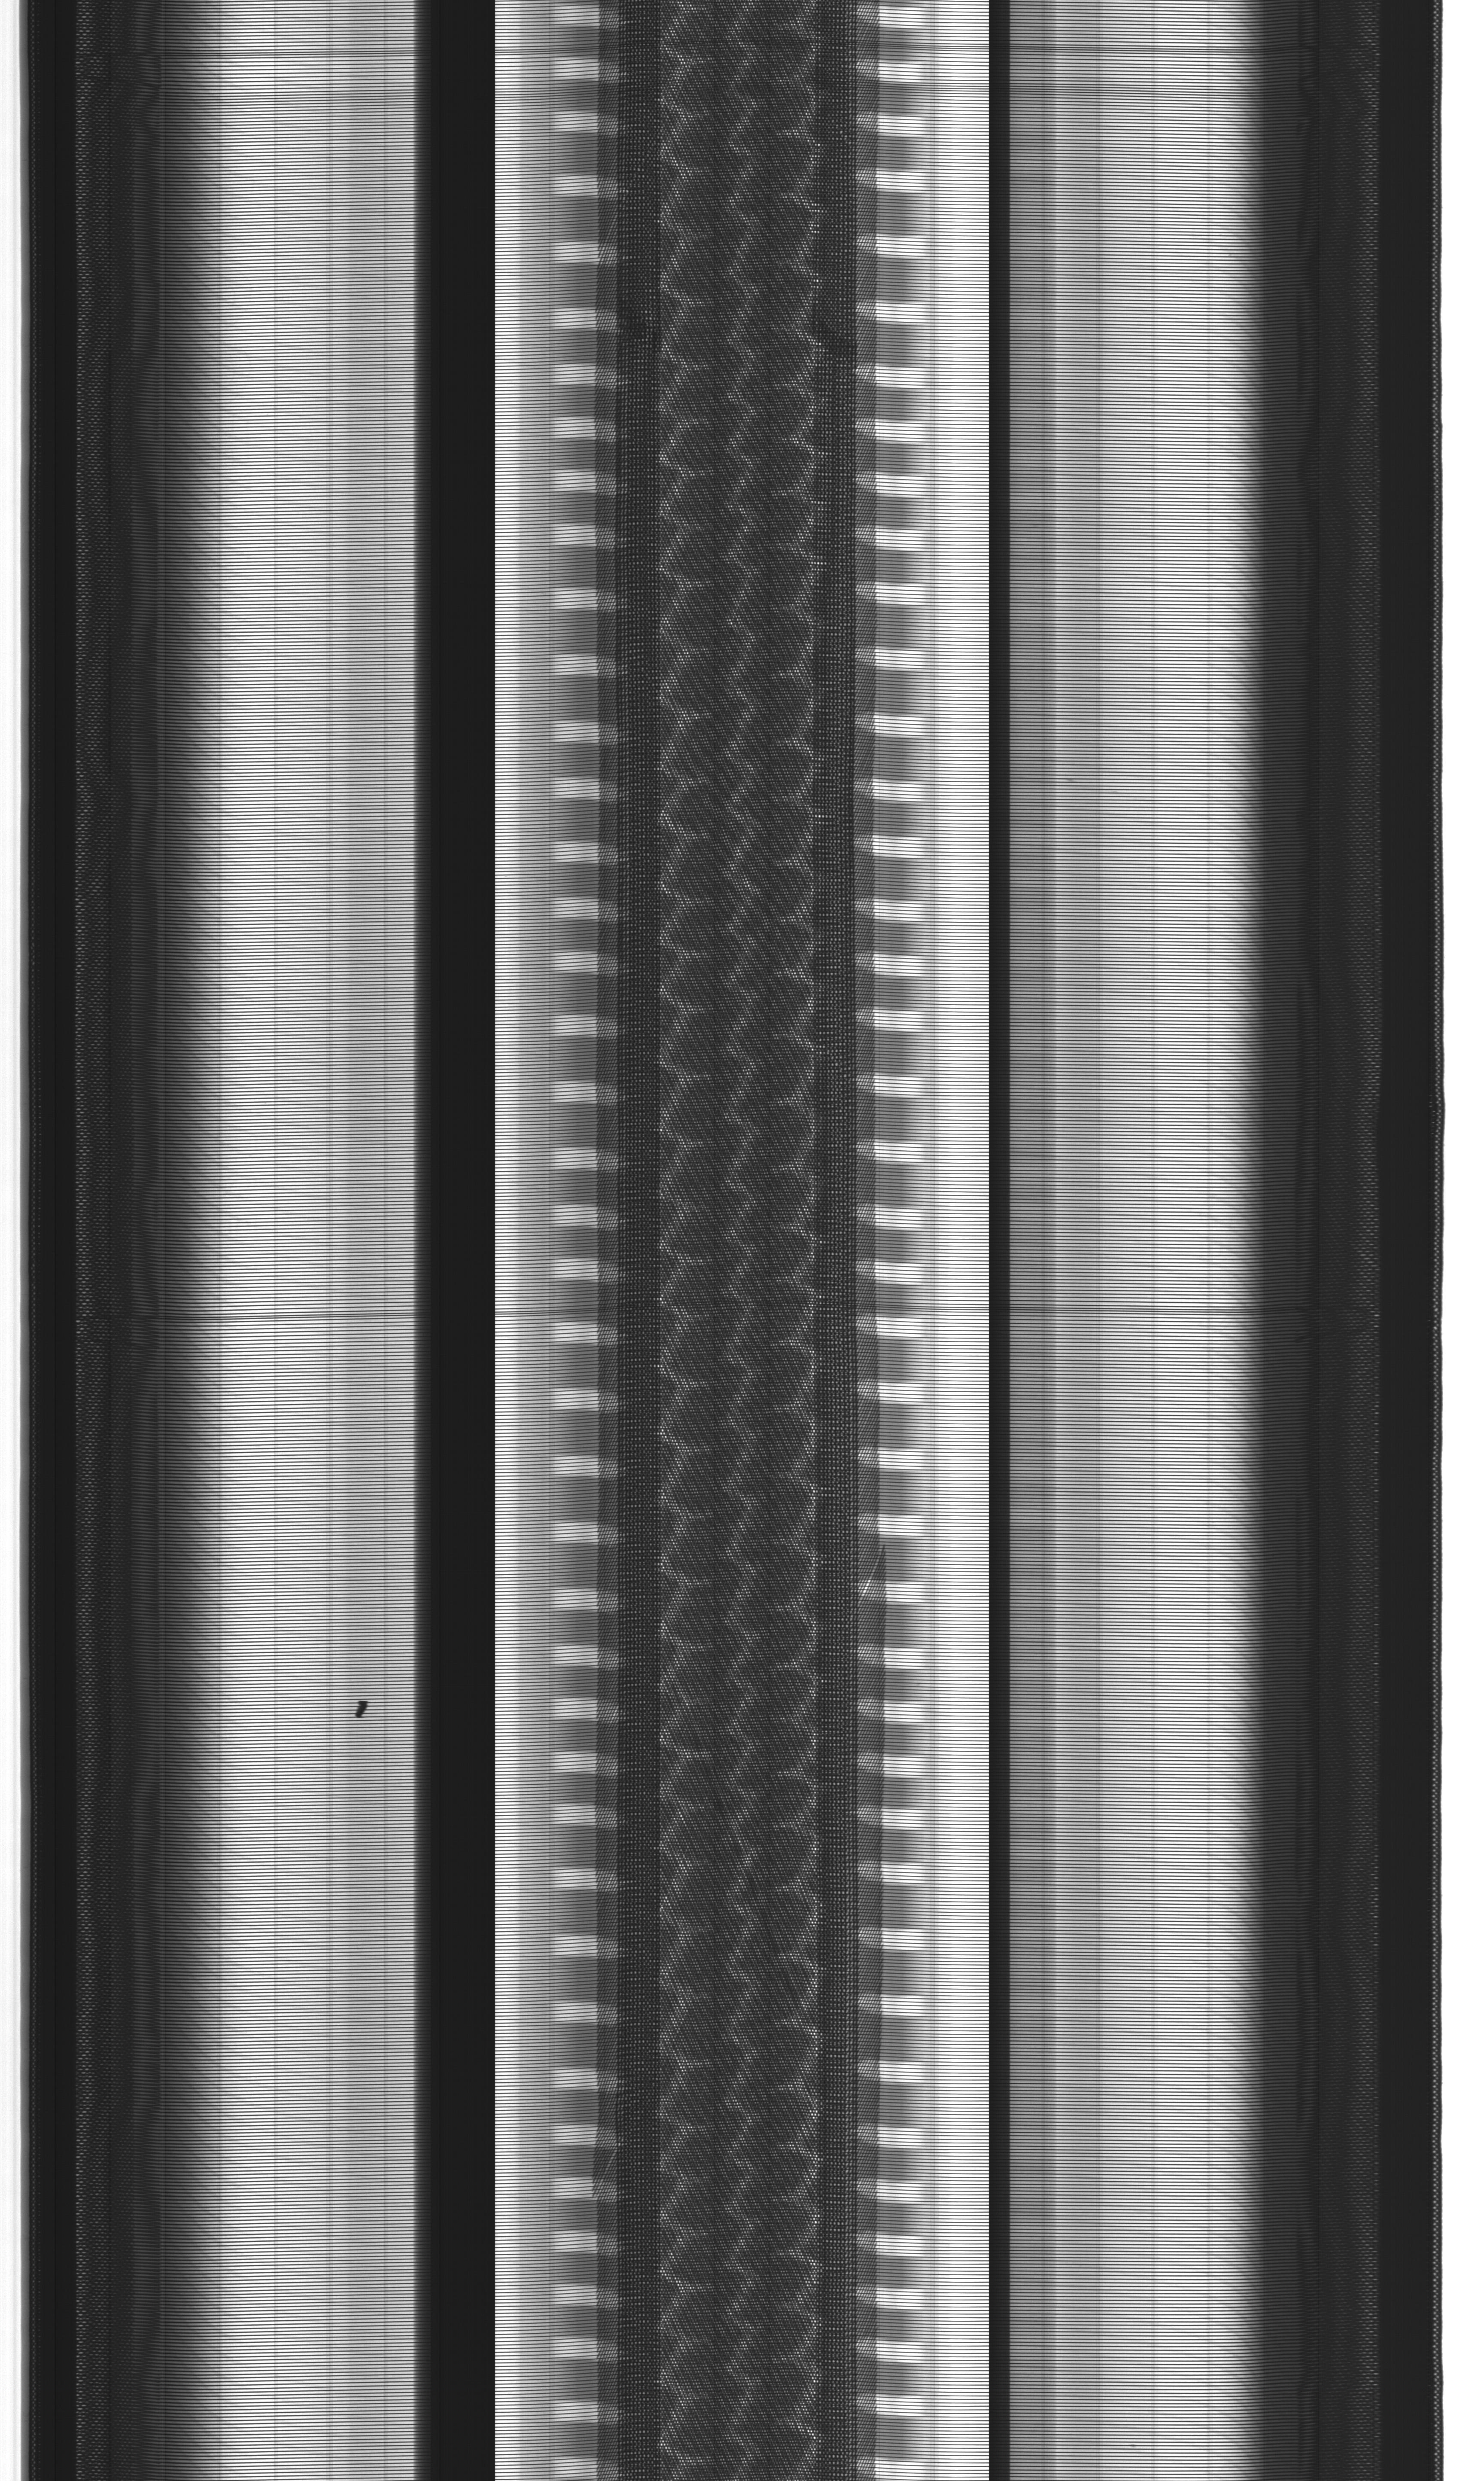713B: (341, 1686, 382, 1730)
